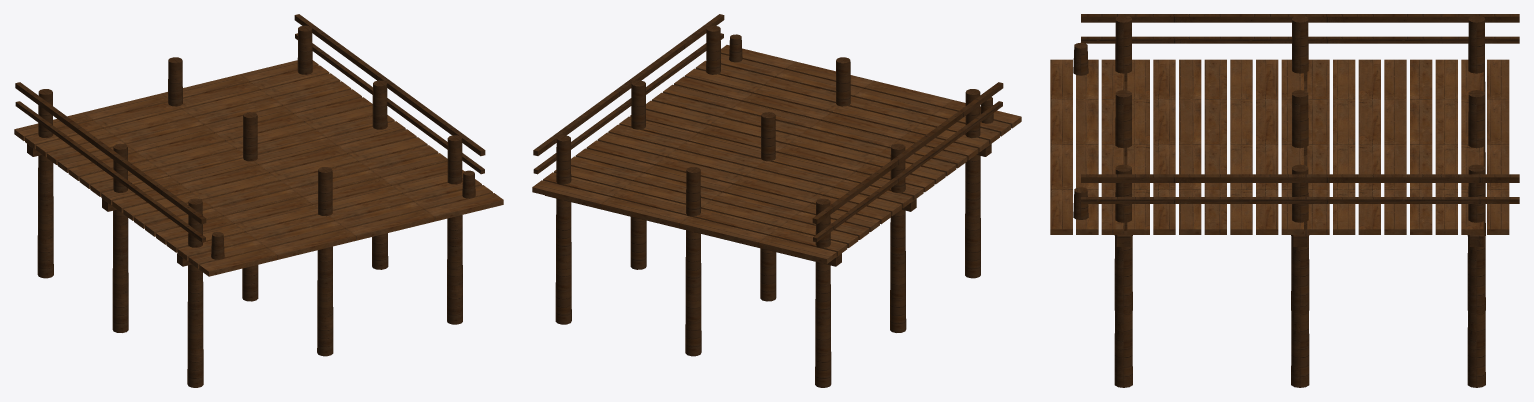
The model's file is pier.gltf.
3 views of the same model, side by side, from view 1: azimuth 30°, elevation 25°; view 2: azimuth 150°, elevation 25°; view 3: azimuth 270°, elevation 25° (orthographic). The views are drawn at different scales.
Parts seen in each view (by area): view 1: EastwaterPier; view 2: EastwaterPier; view 3: EastwaterPier.
Boxes of the visible parts, <box> form: EastwaterPier: <box>14,14,503,387</box>; EastwaterPier: <box>532,14,1021,387</box>; EastwaterPier: <box>1050,14,1519,387</box>.
Size of the model in its own units: 7.5 by 4.45 by 8.77.
Materials: 2 (2 with a texture image).
